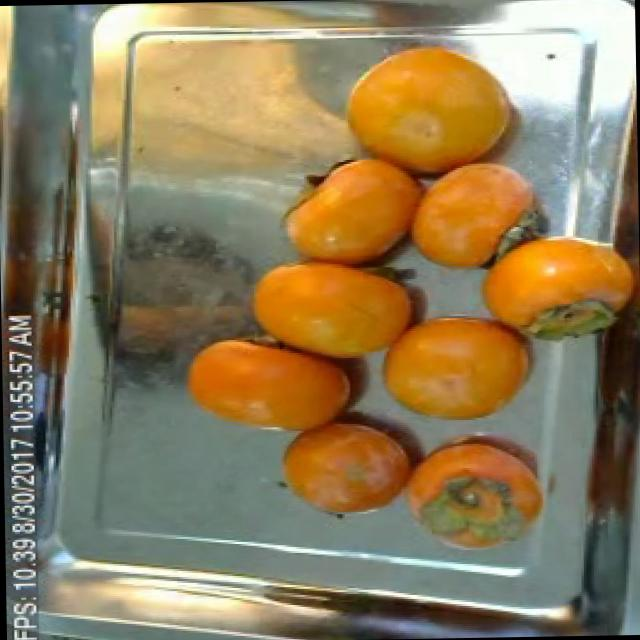Fruit: (90, 179, 274, 384), (362, 302, 555, 435), (393, 416, 562, 565), (460, 220, 640, 348), (394, 142, 555, 283), (171, 328, 347, 444), (267, 406, 423, 527)
